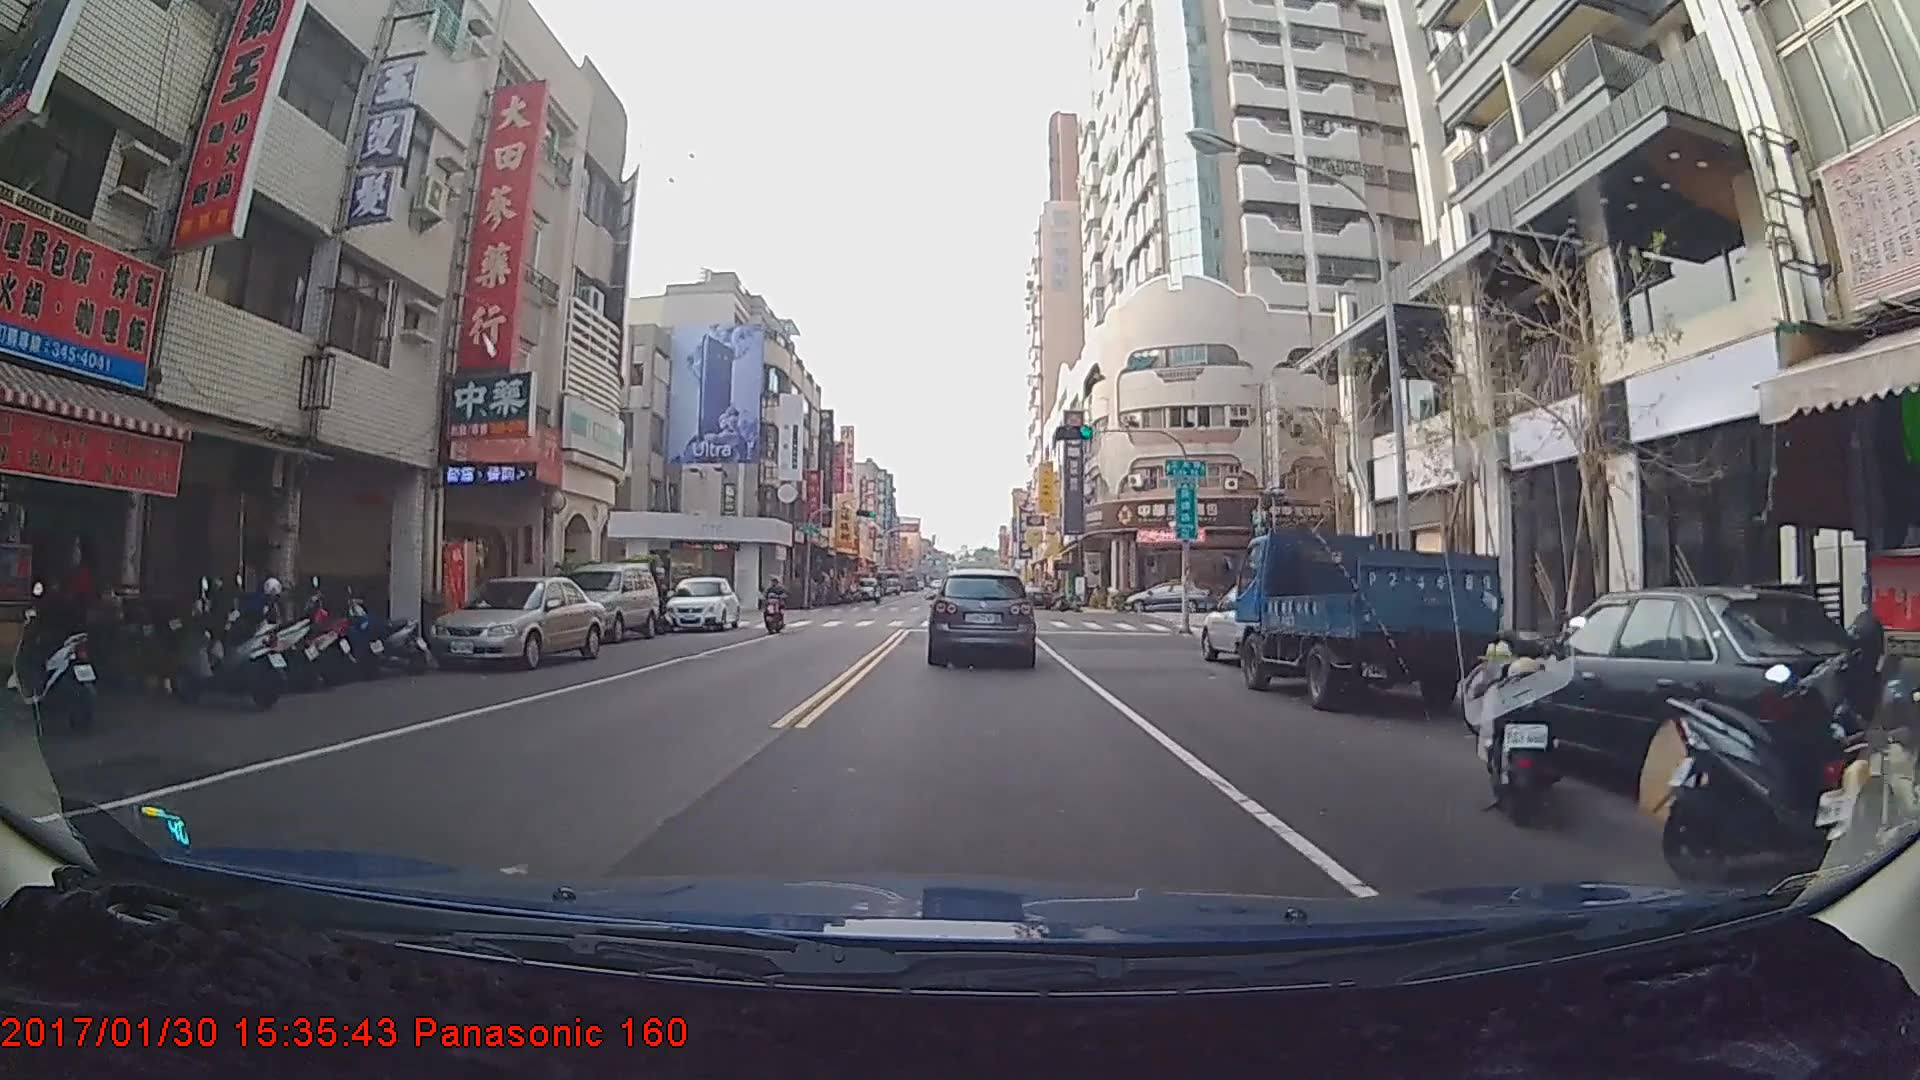rider: (764, 579, 789, 636)
vehicle: (1233, 535, 1501, 712), (426, 574, 603, 671), (1197, 579, 1334, 670), (927, 568, 1035, 666), (551, 560, 660, 646), (664, 575, 737, 631), (1123, 581, 1208, 614), (855, 574, 879, 599)
